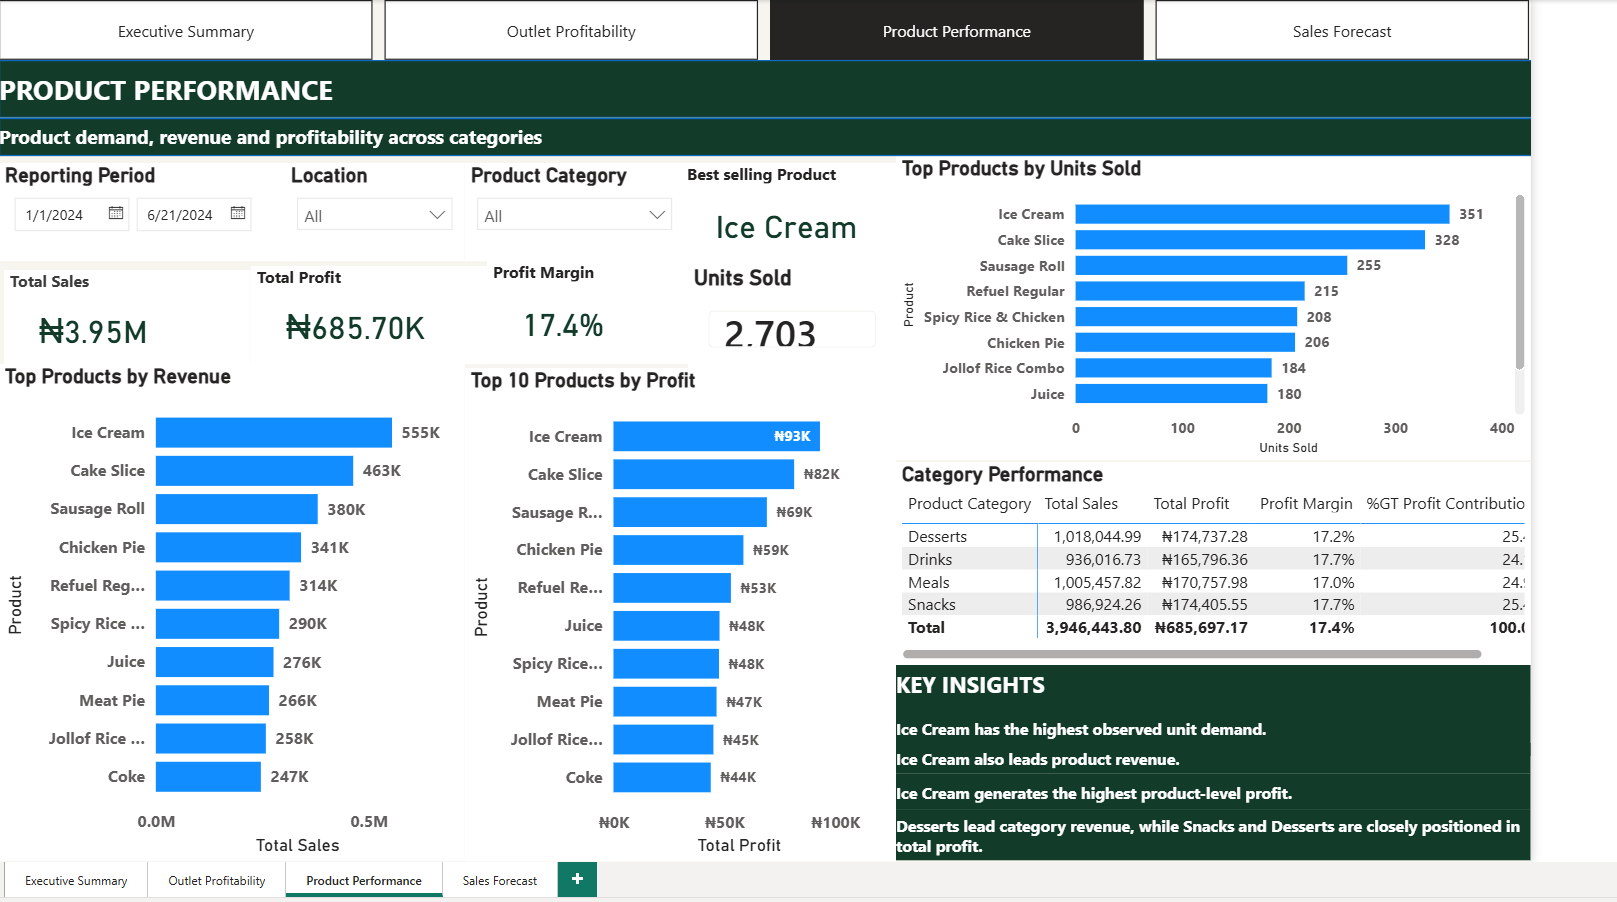

The dashboard page shown, as its layout file describes it:
{"tool":"powerbi","page":{"name":"Product Performance","canvas":[1280,720],"ordinal":2},"visuals":[{"type":"barChart","title":"Top Products by Units Sold","fields":{"Category":["Sales.Product"],"Y":["Sales.Units Sold"]},"box":[749.5,130.2,530,254.4],"z":0},{"type":"barChart","title":"Top Products by Revenue","fields":{"Category":["Sales.Product"],"Y":["Sales.Total Sales"]},"box":[0,304.4,389.2,414.9],"z":1000},{"type":"barChart","title":"Top 10 Products by Profit","fields":{"Category":["Sales.Product"],"Y":["Sales.Total Profit"]},"box":[389.2,307.4,360.4,411.9],"z":2000},{"type":"pivotTable","title":"Category Performance","fields":{"Rows":["Sales.Product Category"],"Values":["Sales.Total Sales","Sales.Total Profit","Sales.Profit Margin","Sales.Profit Contribution %"]},"box":[749.5,386.1,530,169.6],"z":3000},{"type":"pageNavigator","box":[0,0,1280.6,50.1],"z":4000},{"type":"shape","box":[0,50,1281,48.5],"z":5000},{"type":"shape","box":[0,98.4,1281,31.8],"z":6000},{"type":"slicer","title":"Reporting Period","fields":{"Values":["Sales.Date"]},"box":[0,136.3,242.3,81.8],"z":7000},{"type":"slicer","title":"Location","fields":{"Values":["Sales.Location"]},"box":[239.2,136.3,149.9,81.8],"z":8000},{"type":"slicer","title":"Product Category","fields":{"Values":["Sales.Product Category"]},"box":[389.2,136.3,183.2,81.8],"z":9000},{"type":"shape","box":[749.5,555.7,530,31.8],"z":10000},{"type":"cardVisual","title":"Total Sales","fields":{"Data":["Sales.Total Sales"]},"box":[4.5,225.6,205.9,81.8],"z":11000},{"type":"cardVisual","title":"Total Profit","fields":{"Data":["Sales.Total Profit"]},"box":[210.5,222.6,196.8,81.8],"z":12000},{"type":"cardVisual","title":"Profit Margin","fields":{"Data":["Sales.Profit Margin"]},"box":[407.3,218,168.1,86.3],"z":13000},{"type":"cardVisual","title":"Best selling Product","fields":{"Data":["Sales.Best Selling Product"]},"box":[569.3,136.3,180.2,86.3],"z":14000},{"type":"cardVisual","title":"Units Sold","fields":{"Data":["Sales.Units Sold Display"]},"box":[575.4,221.1,174.1,86.3],"z":15000},{"type":"shape","box":[749.5,587.5,530,43.9],"z":16000},{"type":"shape","box":[749.5,620.8,530,25.7],"z":17000},{"type":"shape","box":[749.5,646.6,530,30.3],"z":18000},{"type":"shape","box":[749.5,676.8,530,42.4],"z":19000}]}

Visuals, with their boxes on the page's 1280x720 design canvas (x1, y1, x2, y2). These are canvas units, not pixel positions in the 1617x902 screenshot, which may show the page scaled, cropped or inside an application window:
"Top Products by Units Sold" barChart: locate(750, 130, 1280, 385)
"Top Products by Revenue" barChart: locate(0, 304, 389, 719)
"Top 10 Products by Profit" barChart: locate(389, 307, 750, 719)
"Category Performance" pivotTable: locate(750, 386, 1280, 556)
pageNavigator: locate(0, 0, 1281, 50)
shape: locate(0, 50, 1281, 98)
shape: locate(0, 98, 1281, 130)
"Reporting Period" slicer: locate(0, 136, 242, 218)
"Location" slicer: locate(239, 136, 389, 218)
"Product Category" slicer: locate(389, 136, 572, 218)
shape: locate(750, 556, 1280, 588)
"Total Sales" cardVisual: locate(4, 226, 210, 307)
"Total Profit" cardVisual: locate(210, 223, 407, 304)
"Profit Margin" cardVisual: locate(407, 218, 575, 304)
"Best selling Product" cardVisual: locate(569, 136, 750, 223)
"Units Sold" cardVisual: locate(575, 221, 750, 307)
shape: locate(750, 588, 1280, 631)
shape: locate(750, 621, 1280, 646)
shape: locate(750, 647, 1280, 677)
shape: locate(750, 677, 1280, 719)
